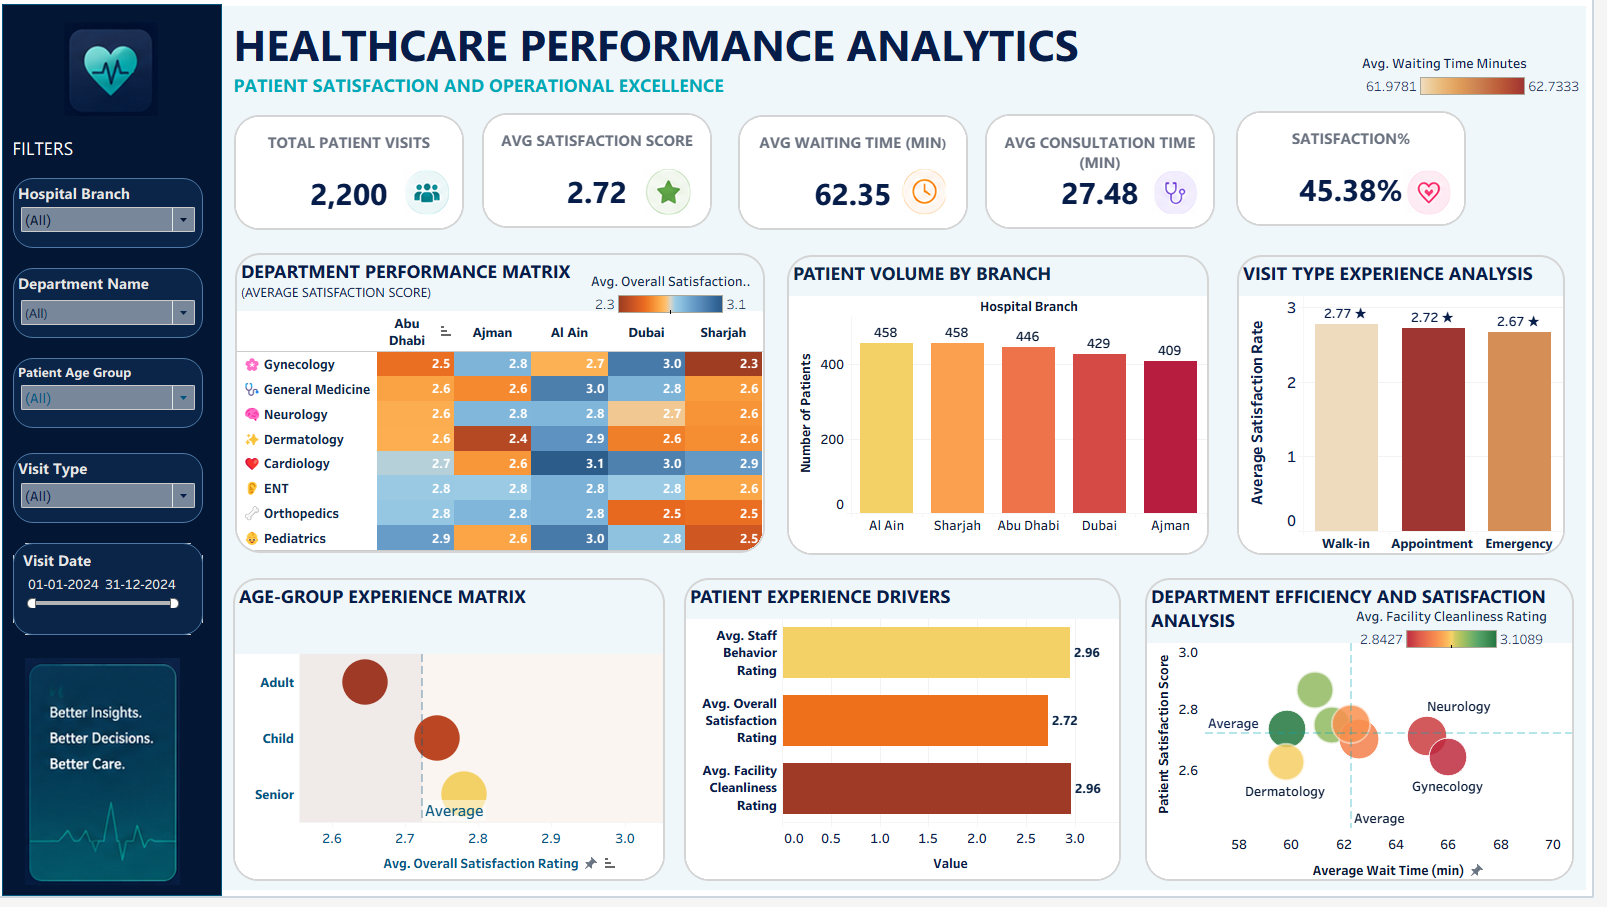

What the dashboard file says about the page in this screenshot:
{"tool":"tableau","page":{"name":"Dashboard","canvas":[1600,900],"ordinal":1},"visuals":[{"type":"blank","box":[9,8,218,121]},{"type":"text","box":[232,11,1179,94]},{"type":"image","param":"Image/Screenshot 2026-06-16 171514.png","box":[51,24,133,94]},{"type":"legend","title":"VISIT TYPE EXPERIENCE ANALYSIS","param":"[federated.1pb3lt60ajgrqd175uonf1dsp4ts].[avg:Waiting_Time_Minutes:qk]","box":[1368,56,222,41]},{"type":"worksheet","title":"KPI_Satisfies%","mark":"Automatic","box":[1232,103,250,135]},{"type":"worksheet","title":"KPI_Avg_Satisfaction","mark":"Automatic","box":[478,105,250,135]},{"type":"worksheet","title":"KPI_Avg_Consultation_Time","mark":"Automatic","box":[981,106,250,135]},{"type":"worksheet","title":"KPI Total visits","mark":"Text","box":[230,107,250,135]},{"type":"worksheet","title":"KPI_Avg_Waiting_Time","mark":"Automatic","box":[734,107,250,135]},{"type":"text","box":[15,135,100,30]},{"type":"image","param":"Image/Screenshot 2026-06-14 004338.png","box":[401,171,63,46]},{"type":"image","param":"Image/Screenshot 2026-06-15 111943.png","box":[646,171,55,46]},{"type":"image","param":"Image/Screenshot 2026-06-15 111958.png","box":[904,171,53,46]},{"type":"image","param":"Image/Screenshot 2026-06-15 112011.png","box":[1151,171,61,46]},{"type":"image","param":"Image/Screenshot 2026-06-15 122533.png","box":[1406,171,56,46]},{"type":"filter","title":"PATIENT VOLUME BY BRANCH","param":"[federated.1pb3lt60ajgrqd175uonf1dsp4ts].[none:Hospital_Branch:nk]","box":[20,181,188,60]},{"type":"worksheet","title":"DEPARTMENT PERFORMANCE MATRIX ","mark":"Square","rows":["Calculation_1724871746527235"],"cols":["Hospital_Branch"],"box":[231,245,550,320]},{"type":"worksheet","title":"PATIENT VOLUME BY BRANCH","mark":"Automatic","rows":["Visit_ID"],"cols":["Hospital_Branch"],"box":[783,247,442,320]},{"type":"worksheet","title":"VISIT TYPE EXPERIENCE ANALYSIS","mark":"Bar","rows":["Overall_Satisfaction_Rating"],"cols":["Visit_Type"],"box":[1233,247,348,320]},{"type":"filter","title":"DEPARTMENT EFFICIENCY AND SATISFACTION ANALYSIS","param":"[federated.1pb3lt60ajgrqd175uonf1dsp4ts].[none:Department_Name:nk]","box":[20,271,188,63]},{"type":"legend","title":"DEPARTMENT PERFORMANCE MATRIX ","param":"[federated.1pb3lt60ajgrqd175uonf1dsp4ts].[avg:Overall_Satisfaction_Rating:qk]","box":[597,274,160,51]},{"type":"filter","title":"AGE-GROUP EXPERIENCE MATRIX","param":"[federated.1pb3lt60ajgrqd175uonf1dsp4ts].[none:Patient_Age_Group:nk]","box":[20,361,188,58]},{"type":"filter","title":"VISIT TYPE EXPERIENCE ANALYSIS","param":"[federated.1pb3lt60ajgrqd175uonf1dsp4ts].[none:Visit_Type:nk]","box":[20,456,188,61]},{"type":"filter","title":"Patient Experience Drivers","param":"[federated.1pb3lt60ajgrqd175uonf1dsp4ts].[none:Visit_Date:qk]","box":[29,552,160,58]},{"type":"worksheet","title":"AGE-GROUP EXPERIENCE MATRIX","mark":"Circle","rows":["Patient_Age_Group"],"cols":["Overall_Satisfaction_Rating"],"box":[229,570,452,323]},{"type":"worksheet","title":"Patient Experience Drivers","mark":"Bar","box":[680,570,457,323]},{"type":"worksheet","title":"DEPARTMENT EFFICIENCY AND SATISFACTION ANALYSIS","mark":"Circle","rows":["Overall_Satisfaction_Rating"],"cols":["Waiting_Time_Minutes"],"box":[1141,570,449,323]},{"type":"legend","title":"DEPARTMENT EFFICIENCY AND SATISFACTION ANALYSIS","param":"[federated.1pb3lt60ajgrqd175uonf1dsp4ts].[avg:Facility_Cleanliness_Rating:qk]","box":[1362,609,192,41]}]}

Visuals, with their boxes in screenshot pixels (x1, y1, x2, y2), scaled from the page's 1600x900 canvas onto the 1607x907 screenshot:
blank: (x1=9, y1=8, x2=228, y2=130)
text: (x1=233, y1=11, x2=1417, y2=106)
image: (x1=51, y1=24, x2=185, y2=119)
"VISIT TYPE EXPERIENCE ANALYSIS" legend: (x1=1374, y1=56, x2=1597, y2=98)
"KPI_Satisfies%" worksheet: (x1=1237, y1=104, x2=1488, y2=240)
"KPI_Avg_Satisfaction" worksheet: (x1=480, y1=106, x2=731, y2=242)
"KPI_Avg_Consultation_Time" worksheet: (x1=985, y1=107, x2=1236, y2=243)
"KPI Total visits" worksheet (Text marks): (x1=231, y1=108, x2=482, y2=244)
"KPI_Avg_Waiting_Time" worksheet: (x1=737, y1=108, x2=988, y2=244)
text: (x1=15, y1=136, x2=116, y2=166)
image: (x1=403, y1=172, x2=466, y2=219)
image: (x1=649, y1=172, x2=704, y2=219)
image: (x1=908, y1=172, x2=961, y2=219)
image: (x1=1156, y1=172, x2=1217, y2=219)
image: (x1=1412, y1=172, x2=1468, y2=219)
"PATIENT VOLUME BY BRANCH" filter: (x1=20, y1=182, x2=209, y2=243)
"DEPARTMENT PERFORMANCE MATRIX " worksheet (Square marks): (x1=232, y1=247, x2=784, y2=569)
"PATIENT VOLUME BY BRANCH" worksheet: (x1=786, y1=249, x2=1230, y2=571)
"VISIT TYPE EXPERIENCE ANALYSIS" worksheet (Bar marks): (x1=1238, y1=249, x2=1588, y2=571)
"DEPARTMENT EFFICIENCY AND SATISFACTION ANALYSIS" filter: (x1=20, y1=273, x2=209, y2=337)
"DEPARTMENT PERFORMANCE MATRIX " legend: (x1=600, y1=276, x2=760, y2=328)
"AGE-GROUP EXPERIENCE MATRIX" filter: (x1=20, y1=364, x2=209, y2=422)
"VISIT TYPE EXPERIENCE ANALYSIS" filter: (x1=20, y1=460, x2=209, y2=521)
"Patient Experience Drivers" filter: (x1=29, y1=556, x2=190, y2=615)
"AGE-GROUP EXPERIENCE MATRIX" worksheet (Circle marks): (x1=230, y1=574, x2=684, y2=900)
"Patient Experience Drivers" worksheet (Bar marks): (x1=683, y1=574, x2=1142, y2=900)
"DEPARTMENT EFFICIENCY AND SATISFACTION ANALYSIS" worksheet (Circle marks): (x1=1146, y1=574, x2=1597, y2=900)
"DEPARTMENT EFFICIENCY AND SATISFACTION ANALYSIS" legend: (x1=1368, y1=614, x2=1561, y2=655)
